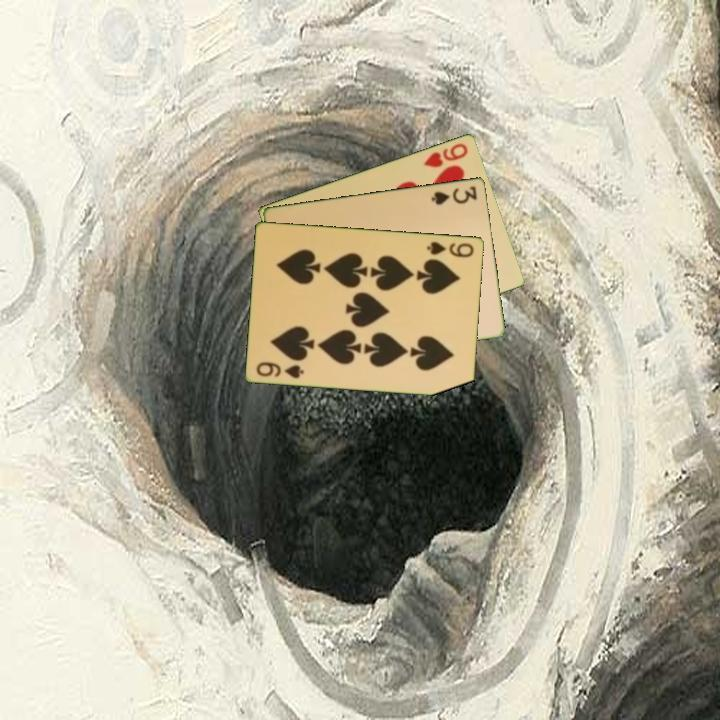3s: (428, 182, 480, 207)
9h: (420, 139, 471, 170)
9s: (253, 358, 307, 381), (424, 238, 477, 260)
